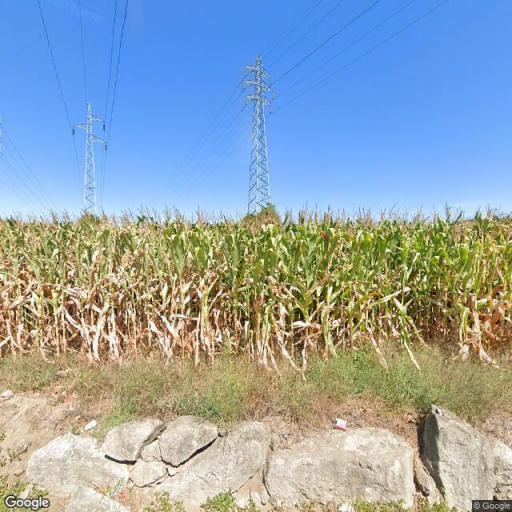ss_3: (240, 54, 278, 214)
ss_4: (69, 100, 108, 230)
